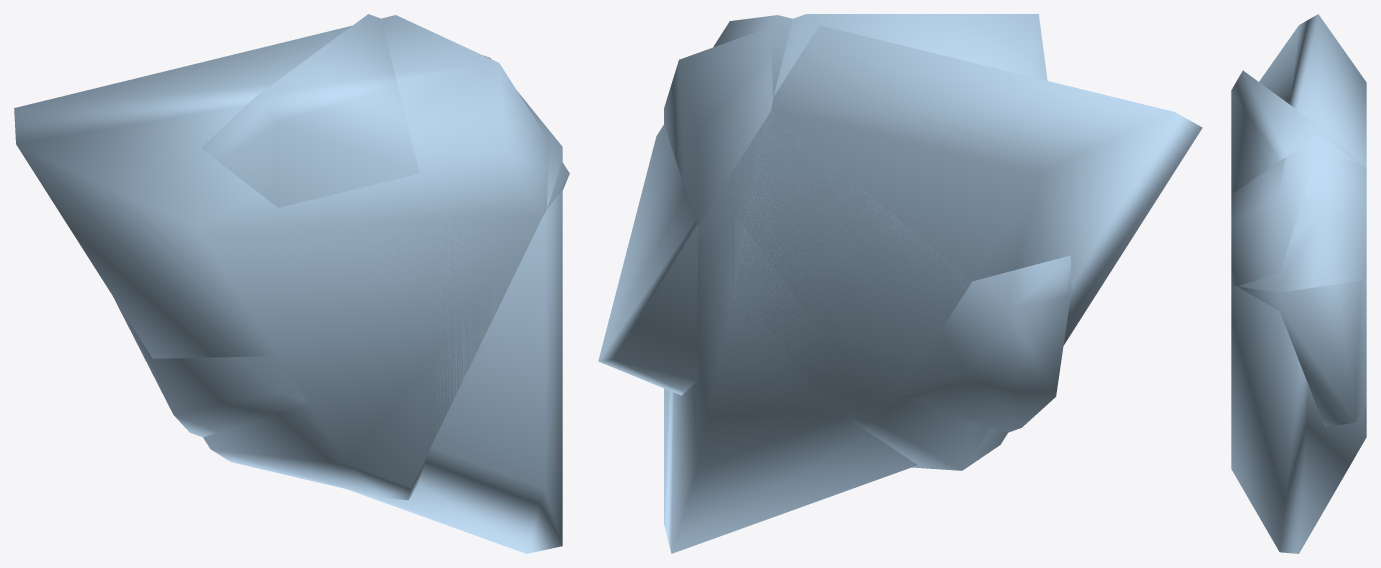
The model's file is quartz-brazil-twin.glb.
3 views of the same model, side by side, from view 1: azimuth 30°, elevation 25°; view 2: azimuth 150°, elevation 25°; view 3: azimuth 270°, elevation 25° (orthographic). The views are drawn at different scales.
Parts seen in each view (by area): view 1: quartz-brazil-twin; view 2: quartz-brazil-twin; view 3: quartz-brazil-twin.
Boxes of the visible parts, x1,y1,x2,y2 form: quartz-brazil-twin: (14, 14, 569, 553); quartz-brazil-twin: (598, 14, 1202, 553); quartz-brazil-twin: (1231, 14, 1366, 553).
Size of the model in its own units: 2.48 by 2.48 by 0.8.
